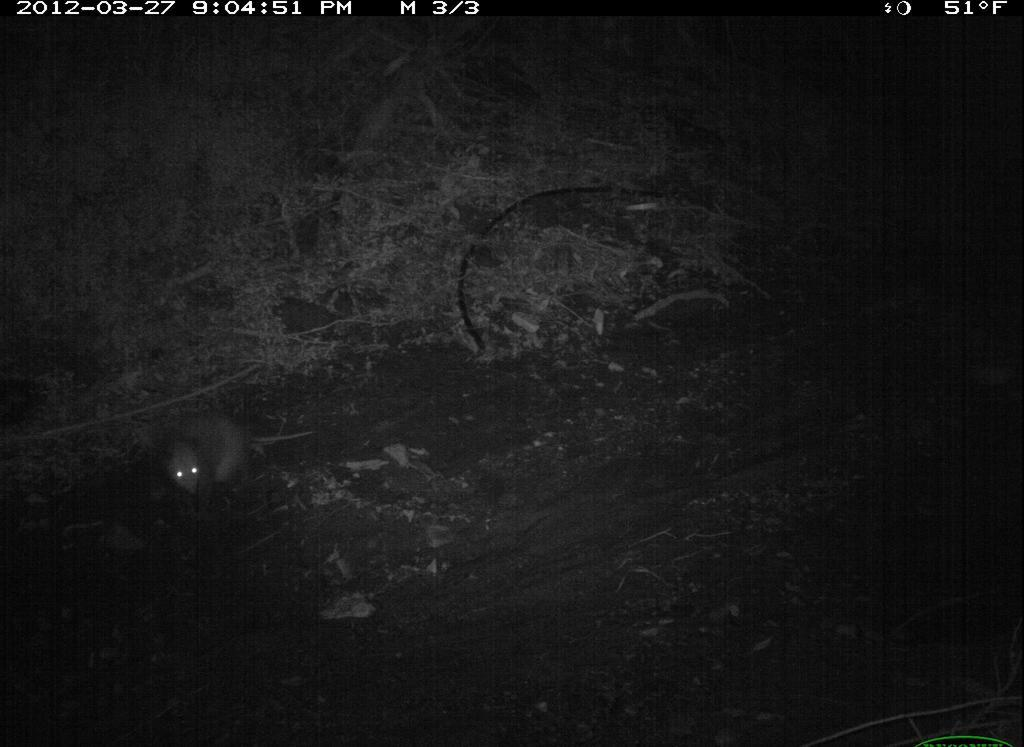opossum: (152, 402, 319, 519)
